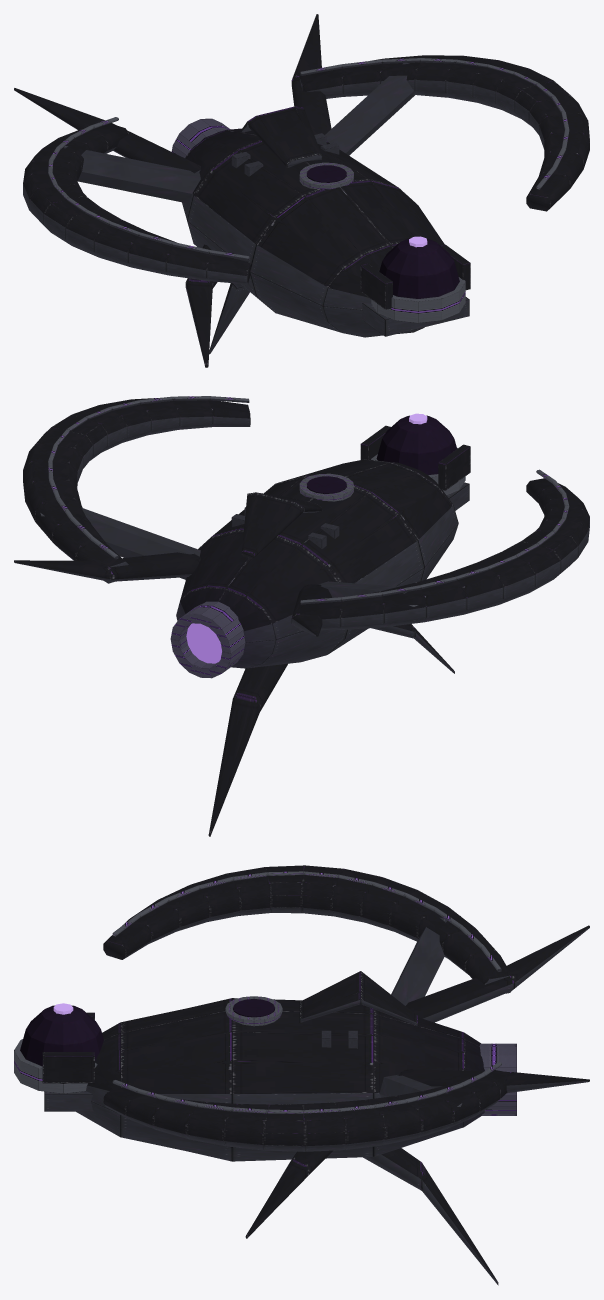
The model's file is pioneer-eris-l08-shield.glb.
3 renders of one model, top to bottom at view 1: azimuth 30°, elevation 25°; view 2: azimuth 150°, elevation 25°; view 3: azimuth 270°, elevation 25°, orthographic. The views are drawn at different scales.
Parts seen in each view (by area): view 1: Drone; view 2: Drone; view 3: Drone.
Boxes of the visible parts, <box> form: Drone: <box>14,14,589,367</box>; Drone: <box>14,396,589,836</box>; Drone: <box>14,865,589,1285</box>.
Size of the model in its own units: 1.63 by 0.8781 by 1.51.
3 materials, 3 textured.
